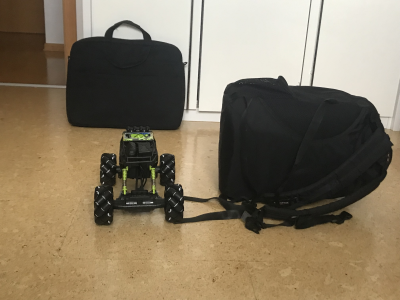remote control car: (93, 122, 188, 229)
